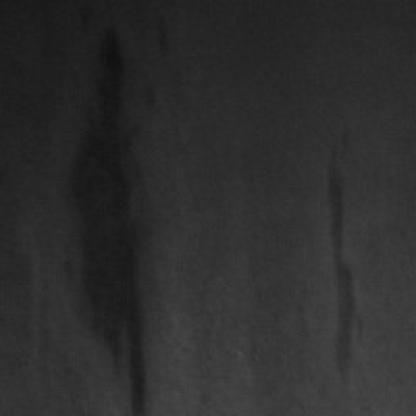inclusion: (64, 21, 154, 410), (324, 131, 376, 381)
